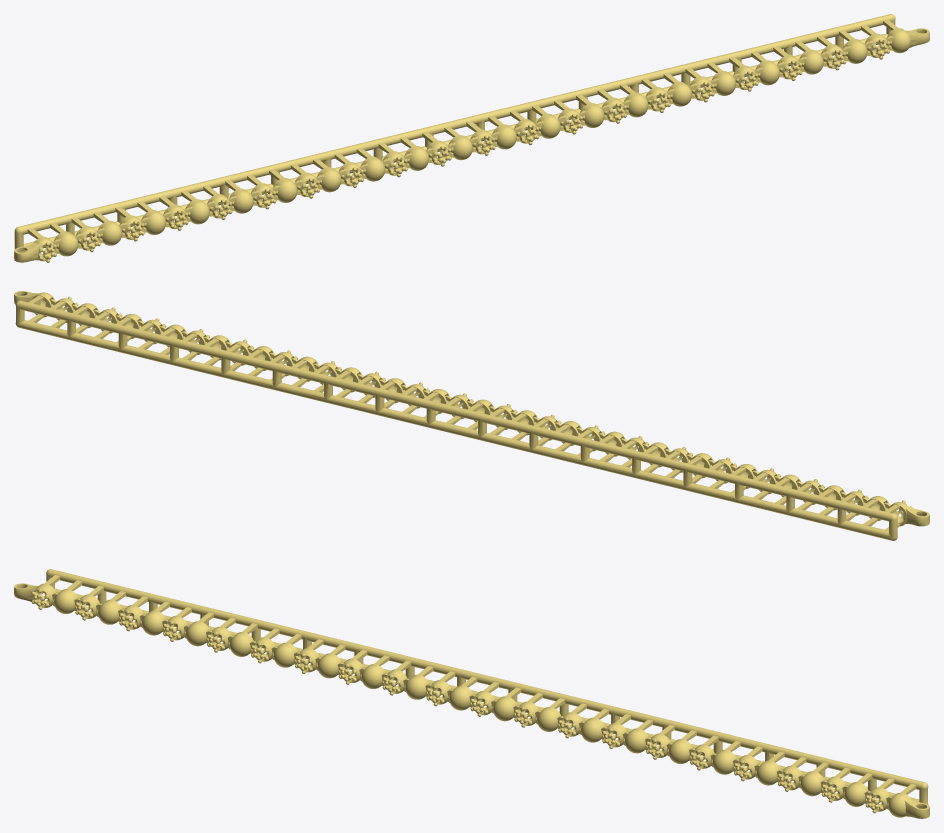
The model's file is yzn5-96.glb.
The picture shows the model from 3 angles, top to bottom: view 1: azimuth 30°, elevation 25°; view 2: azimuth 150°, elevation 25°; view 3: azimuth 330°, elevation 25°; orthographic projection.
Parts seen in each view (by area): view 1: Renderer Node; view 2: Renderer Node; view 3: Renderer Node.
Part boxes in pixels (<box>): Renderer Node: <box>14,14,929,262</box>; Renderer Node: <box>14,291,929,540</box>; Renderer Node: <box>14,569,929,818</box>.
Bounding box in the file's own units: 178 × 4.94 × 8.18.
